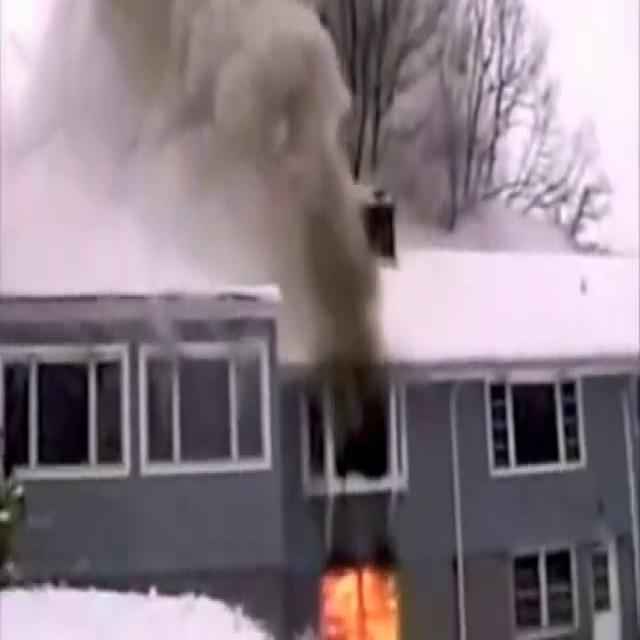Fire: (311, 548, 413, 640)
Smoke: (12, 0, 402, 292)
